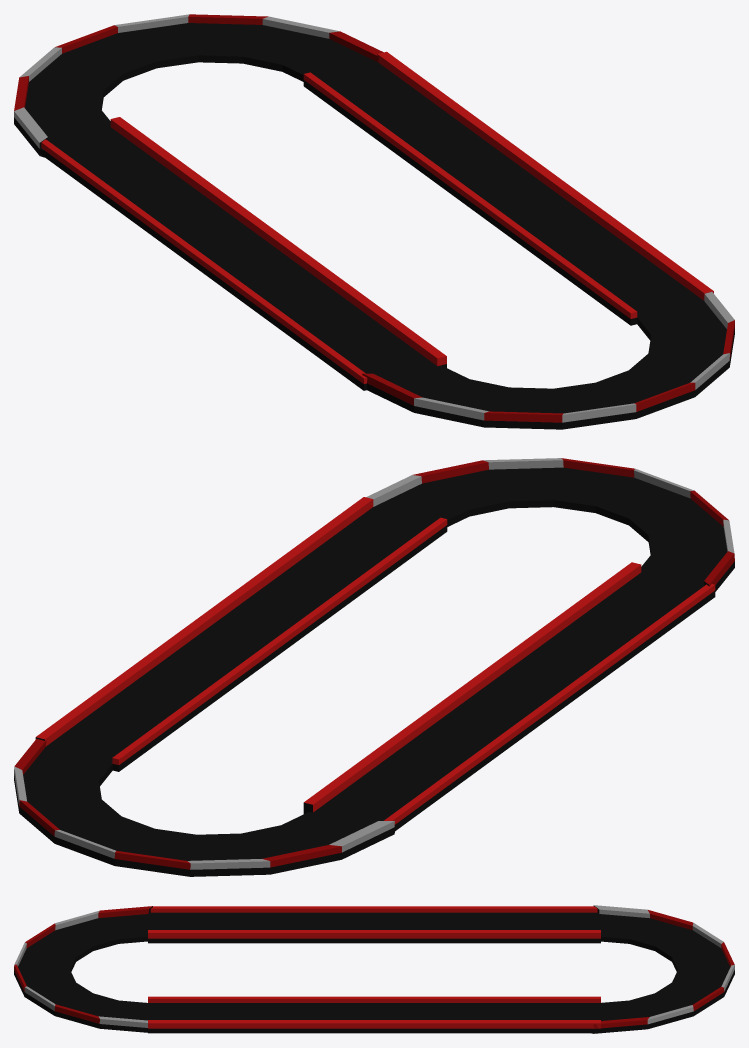
Rendered from RaceTrack.obj.
3 views of the same model, one above another, from view 1: azimuth 30°, elevation 25°; view 2: azimuth 150°, elevation 25°; view 3: azimuth 270°, elevation 25° (orthographic). The views are drawn at different scales.
Parts seen in each view (by area): view 1: Circle_Circle.001, Cube.003, Cube.002_Cube.005; view 2: Circle_Circle.001, Cube.003, Cube.002_Cube.005; view 3: Circle_Circle.001, Cube.003, Cube.002_Cube.005.
Boxes of the visible parts, x1,y1,x2,y2 form: Circle_Circle.001: (14, 14, 734, 429); Cube.003: (303, 51, 713, 325); Cube.002_Cube.005: (39, 117, 446, 390); Circle_Circle.001: (14, 458, 734, 876); Cube.003: (35, 497, 447, 771); Cube.002_Cube.005: (303, 562, 715, 831); Circle_Circle.001: (14, 905, 734, 1033); Cube.003: (148, 996, 600, 1033); Cube.002_Cube.005: (148, 906, 600, 943).
Bounding box in the file's own units: 25.17 × 1.01 × 64.17.
